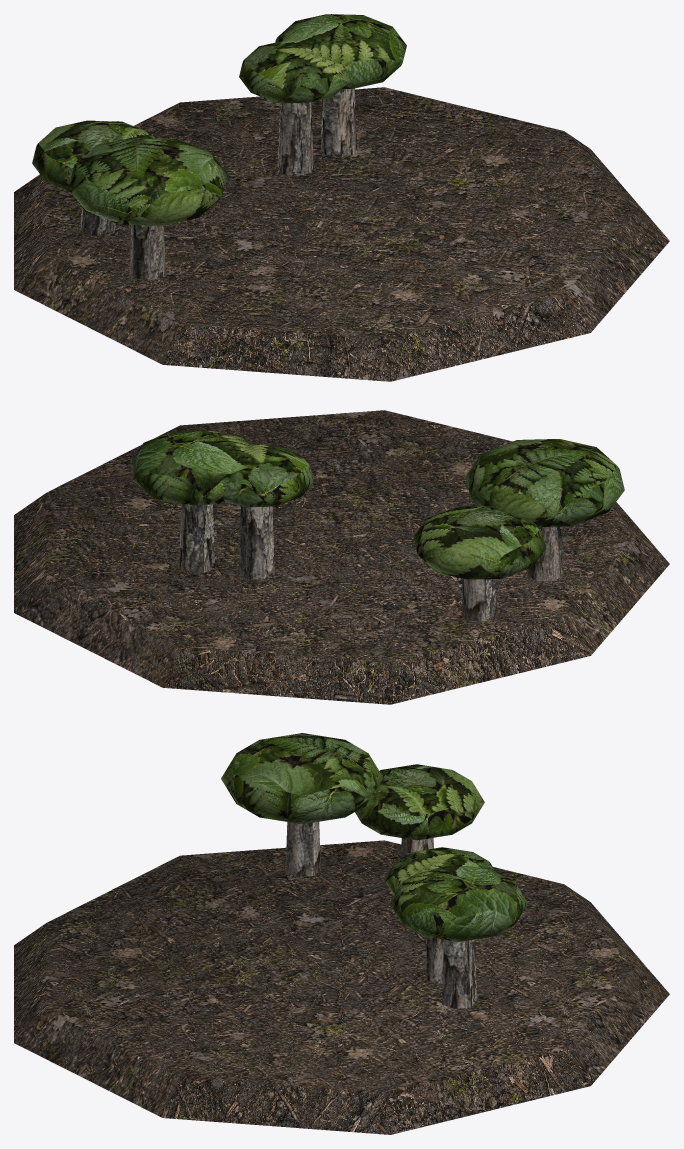
Rendered from roots-and-fungi-v01.glb.
The picture shows the model from 3 angles, top to bottom: view 1: azimuth 30°, elevation 25°; view 2: azimuth 150°, elevation 25°; view 3: azimuth 270°, elevation 25°; orthographic projection.
Visible parts, largest first — view 1: roots-and-fungi; view 2: roots-and-fungi; view 3: roots-and-fungi.
Part boxes in pixels (x1,y1,x2,y2): roots-and-fungi: (14, 14, 669, 381); roots-and-fungi: (14, 410, 669, 704); roots-and-fungi: (14, 733, 669, 1134).
Bounding box in the file's own units: 1.54 × 0.3868 × 1.51.
Materials: 3 (3 with a texture image).
